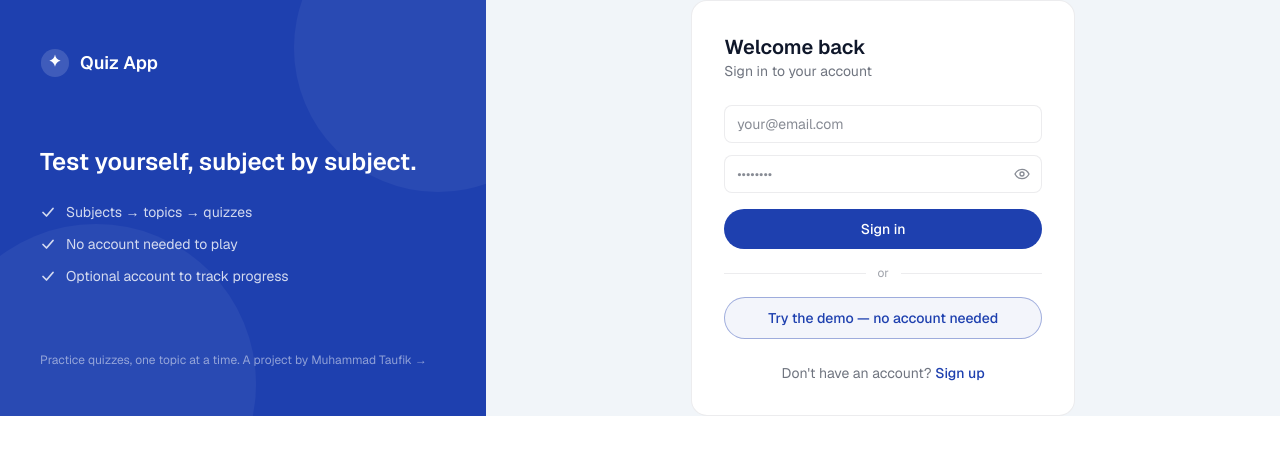
Test: SignIn Form › displays an error message when signin fails
The width and height of the screenshot is (1280, 465).
# Fill the form with valid data
Type "john.doe@example.com" into the field labelled "your@email.com" at (883, 124), box x1=724 y1=105 x2=1042 y2=143
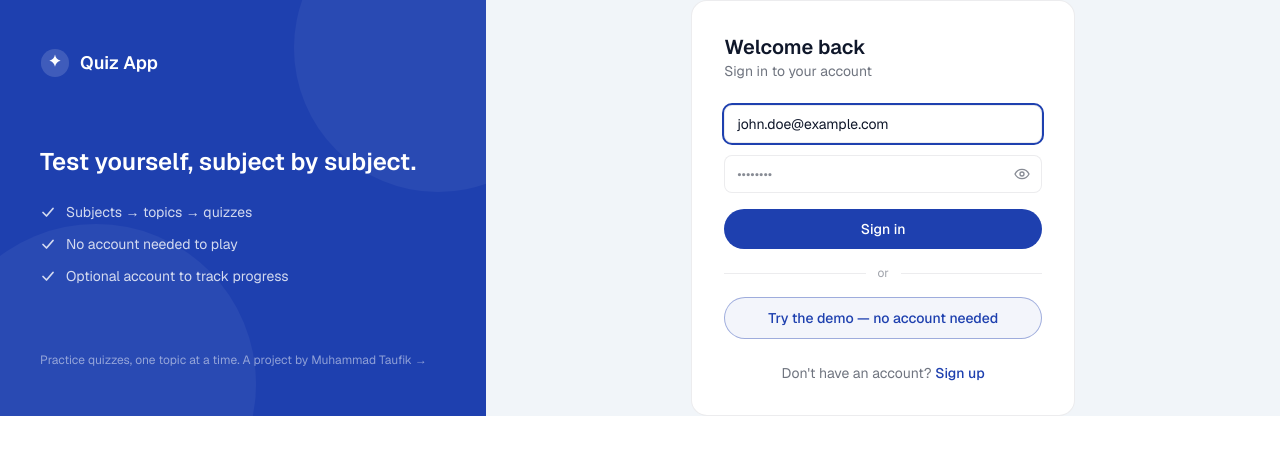
Type "password123" into the password field named "Password" at (883, 174), box x1=724 y1=155 x2=1042 y2=193
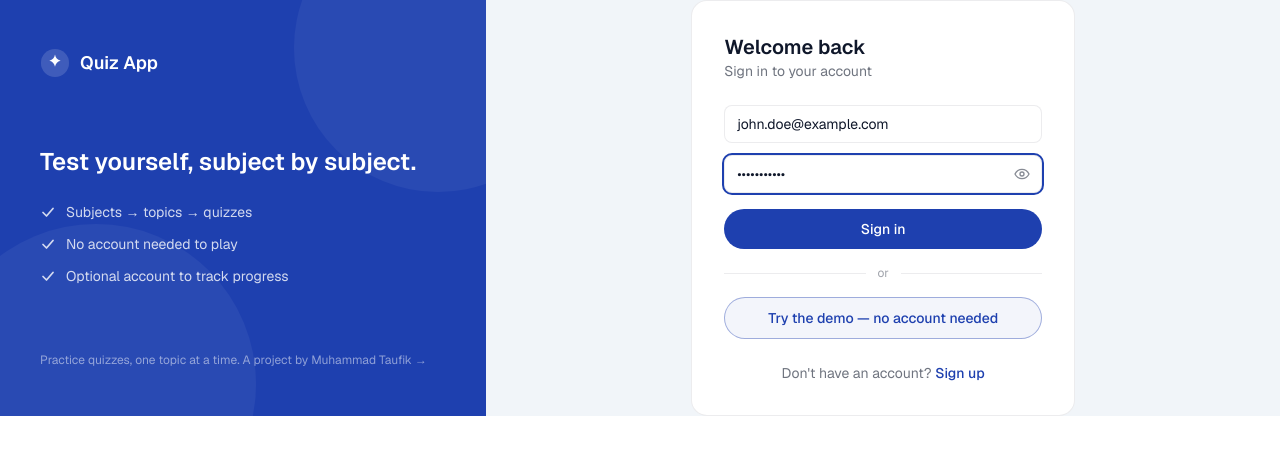
# Submit the form
Click the button "Sign in" at (883, 229), box x1=724 y1=209 x2=1042 y2=249
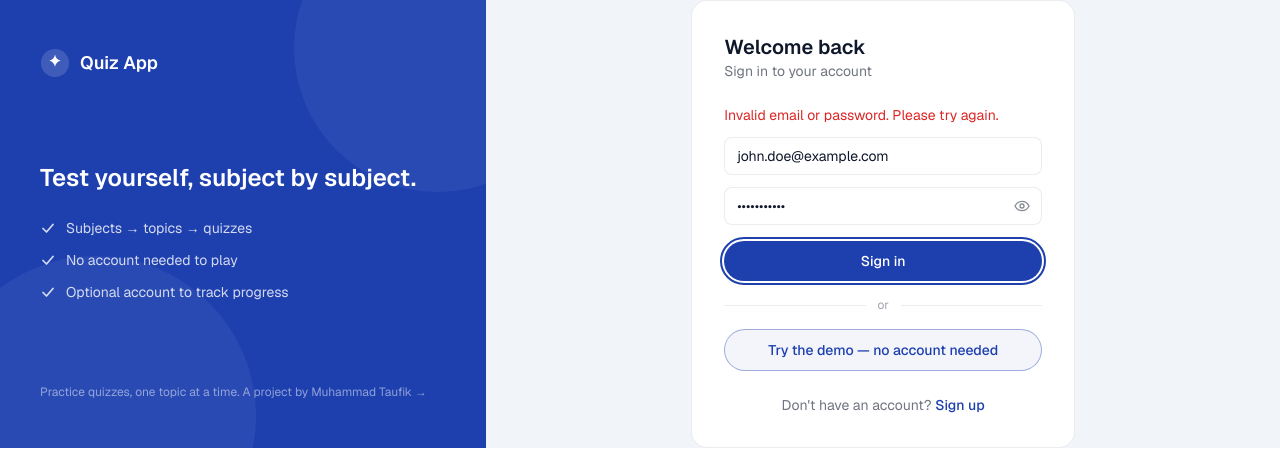
expect the text "Invalid email or password. Please try again." is shown: met, box x1=724 y1=105 x2=1042 y2=125
